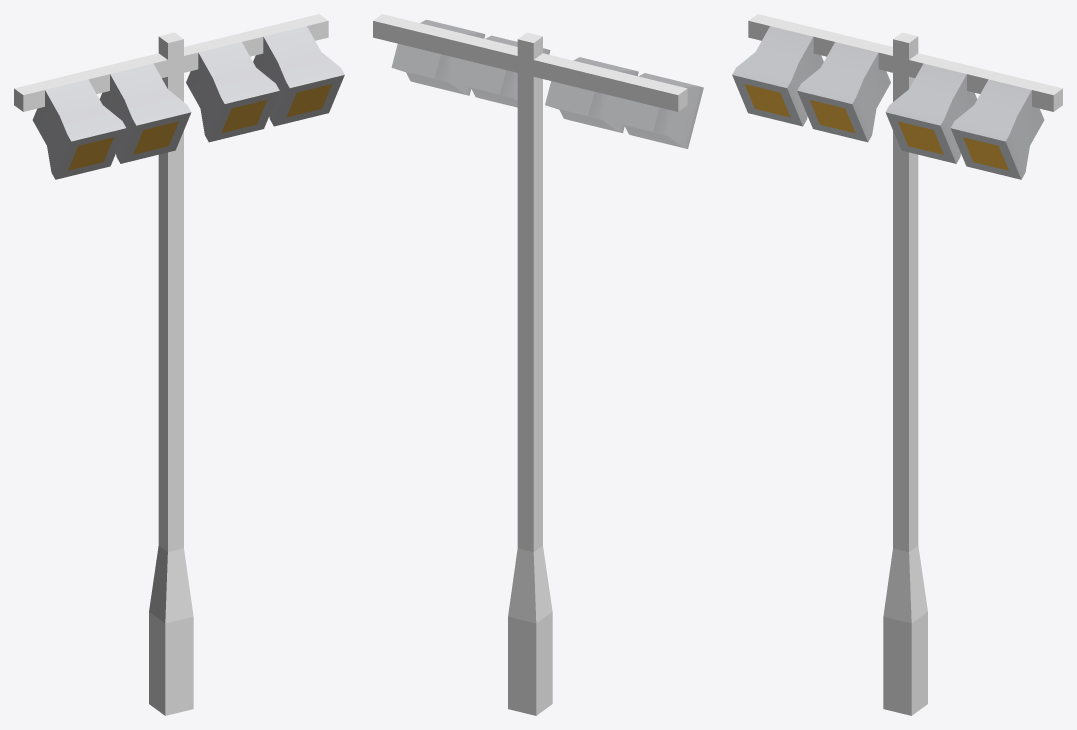
File: light-post-large.glb
3 renders of one model, left to right at view 1: azimuth 30°, elevation 25°; view 2: azimuth 150°, elevation 25°; view 3: azimuth 330°, elevation 25°, orthographic.
Visible parts, largest first — view 1: lightPostLarge(Clone); view 2: lightPostLarge(Clone); view 3: lightPostLarge(Clone).
Part boxes in pixels (x1,y1,x2,y2): lightPostLarge(Clone): (14,14,344,715); lightPostLarge(Clone): (373,14,703,715); lightPostLarge(Clone): (732,14,1062,715).
Bounding box in the file's own units: 0.38 × 0.7957 × 0.0971.
